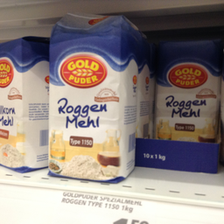flour: (49, 19, 139, 183), (1, 36, 50, 174), (151, 54, 221, 143)
